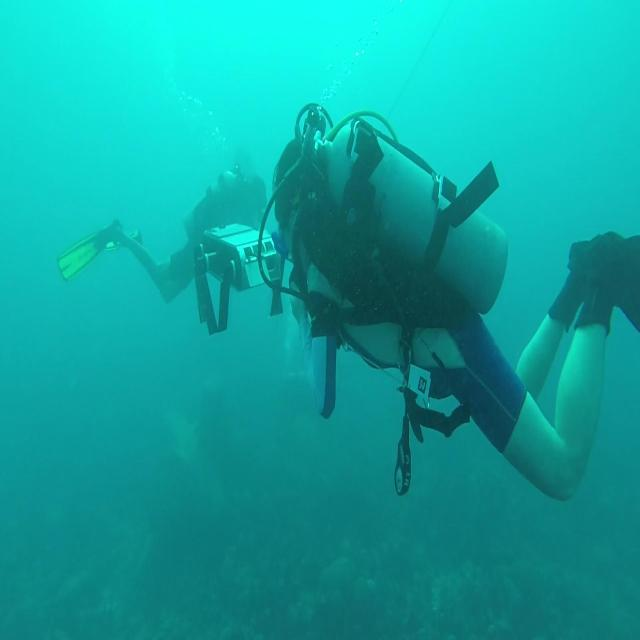human: (270, 101, 638, 502), (56, 160, 276, 334)
